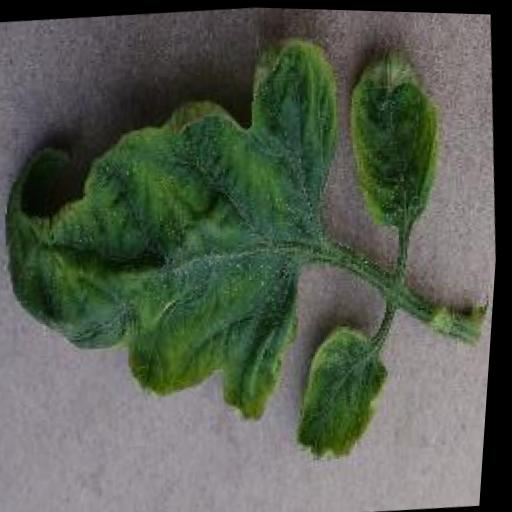Yellow Leaf Curl Virus: (0, 27, 368, 445), (334, 40, 455, 227), (288, 315, 399, 462)
